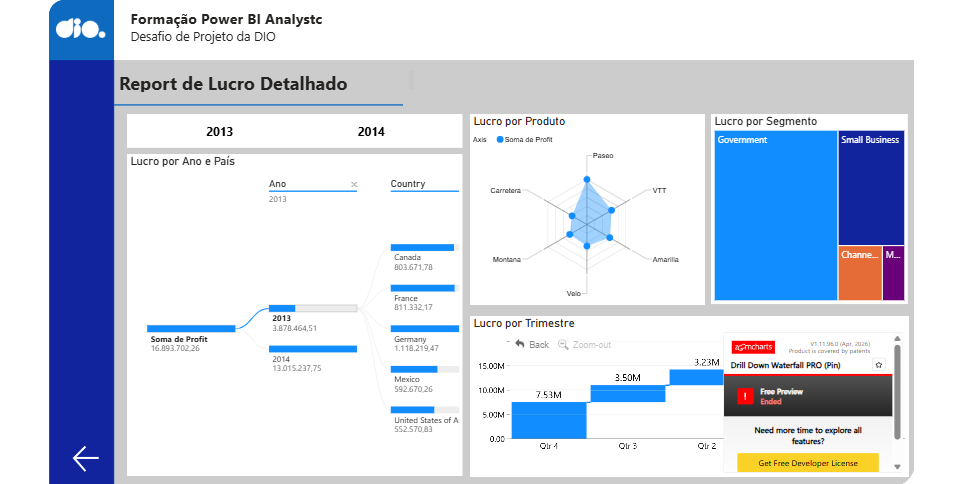

This screenshot's page, from the dashboard's own definition file:
{"tool":"powerbi","page":{"name":"Página 2","canvas":[1280,720],"ordinal":1},"visuals":[{"type":"shape","box":[10.2,7.3,1270.2,712.7],"z":0},{"type":"shape","box":[0,0,96.6,720],"z":1000},{"type":"shape","box":[0,0,96.6,89.3],"z":2000},{"type":"shape","box":[96.6,0,1183.9,89.3],"z":3000},{"type":"image","box":[10.2,0,73.2,83.4],"z":4000},{"type":"actionButton","box":[10.2,654.1,89.3,49.8],"z":5000},{"type":"textbox","box":[115.6,7.3,323.4,76.1],"z":6000},{"type":"textbox","box":[99.5,99.5,446.3,42.4],"z":7000},{"type":"shape","box":[96.6,142,427.3,26.3],"z":8000},{"type":"RadarChart1446119667547","title":"Lucro por Produto","fields":{"Y":["Sum(financials.Profit)"],"Category":["financials.Product"]},"box":[622,168.3,346.8,281],"z":9000},{"type":"treemap","title":"Lucro por Segmento","fields":{"Values":["Sum(financials.Profit)"],"Group":["financials.Segment"]},"box":[979,168.3,291.2,281],"z":10000},{"type":"clusteredColumnChart","title":"Lucro por Trimestre","fields":{"Y":["Sum(financials.Profit)"],"Category":["financials.Date.Variation.Hierarquia de datas.Trimestre"]},"box":[622,466.8,648.3,237.1],"z":11000},{"type":"decompositionTreeVisual","title":"Lucro por Ano e País","fields":{"Analyze":["Sum(financials.Profit)"],"ExplainBy":["financials.Date.Variation.Hierarquia de datas.Ano","financials.Country"]},"box":[115.6,228.3,496.1,475.6],"z":12000},{"type":"slicer","fields":{"Values":["financials.Date.Variation.Hierarquia de datas.Ano"]},"box":[115.6,168.3,496.1,49.8],"z":13000}]}

Visuals, with their boxes on the page's 1280x720 design canvas (x1, y1, x2, y2). These are canvas units, not pixel positions in the 953x484 screenshot, which may show the page scaled, cropped or inside an application window:
shape: box(10, 7, 1280, 720)
shape: box(0, 0, 97, 720)
shape: box(0, 0, 97, 89)
shape: box(97, 0, 1280, 89)
image: box(10, 0, 83, 83)
actionButton: box(10, 654, 100, 704)
textbox: box(116, 7, 439, 83)
textbox: box(100, 100, 546, 142)
shape: box(97, 142, 524, 168)
"Lucro por Produto" RadarChart1446119667547: box(622, 168, 969, 449)
"Lucro por Segmento" treemap: box(979, 168, 1270, 449)
"Lucro por Trimestre" clusteredColumnChart: box(622, 467, 1270, 704)
"Lucro por Ano e País" decompositionTreeVisual: box(116, 228, 612, 704)
slicer - financials.Date.Variation.Hierarquia de datas.Ano: box(116, 168, 612, 218)
